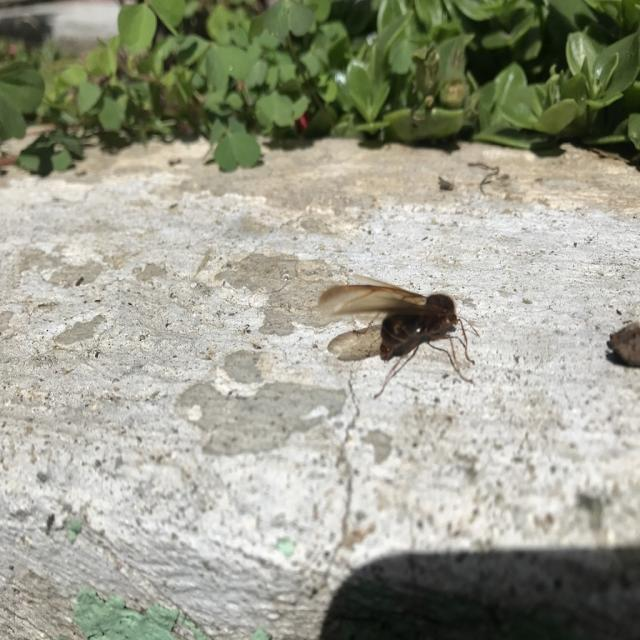Alive-Male-Alate: (319, 272, 480, 400)
